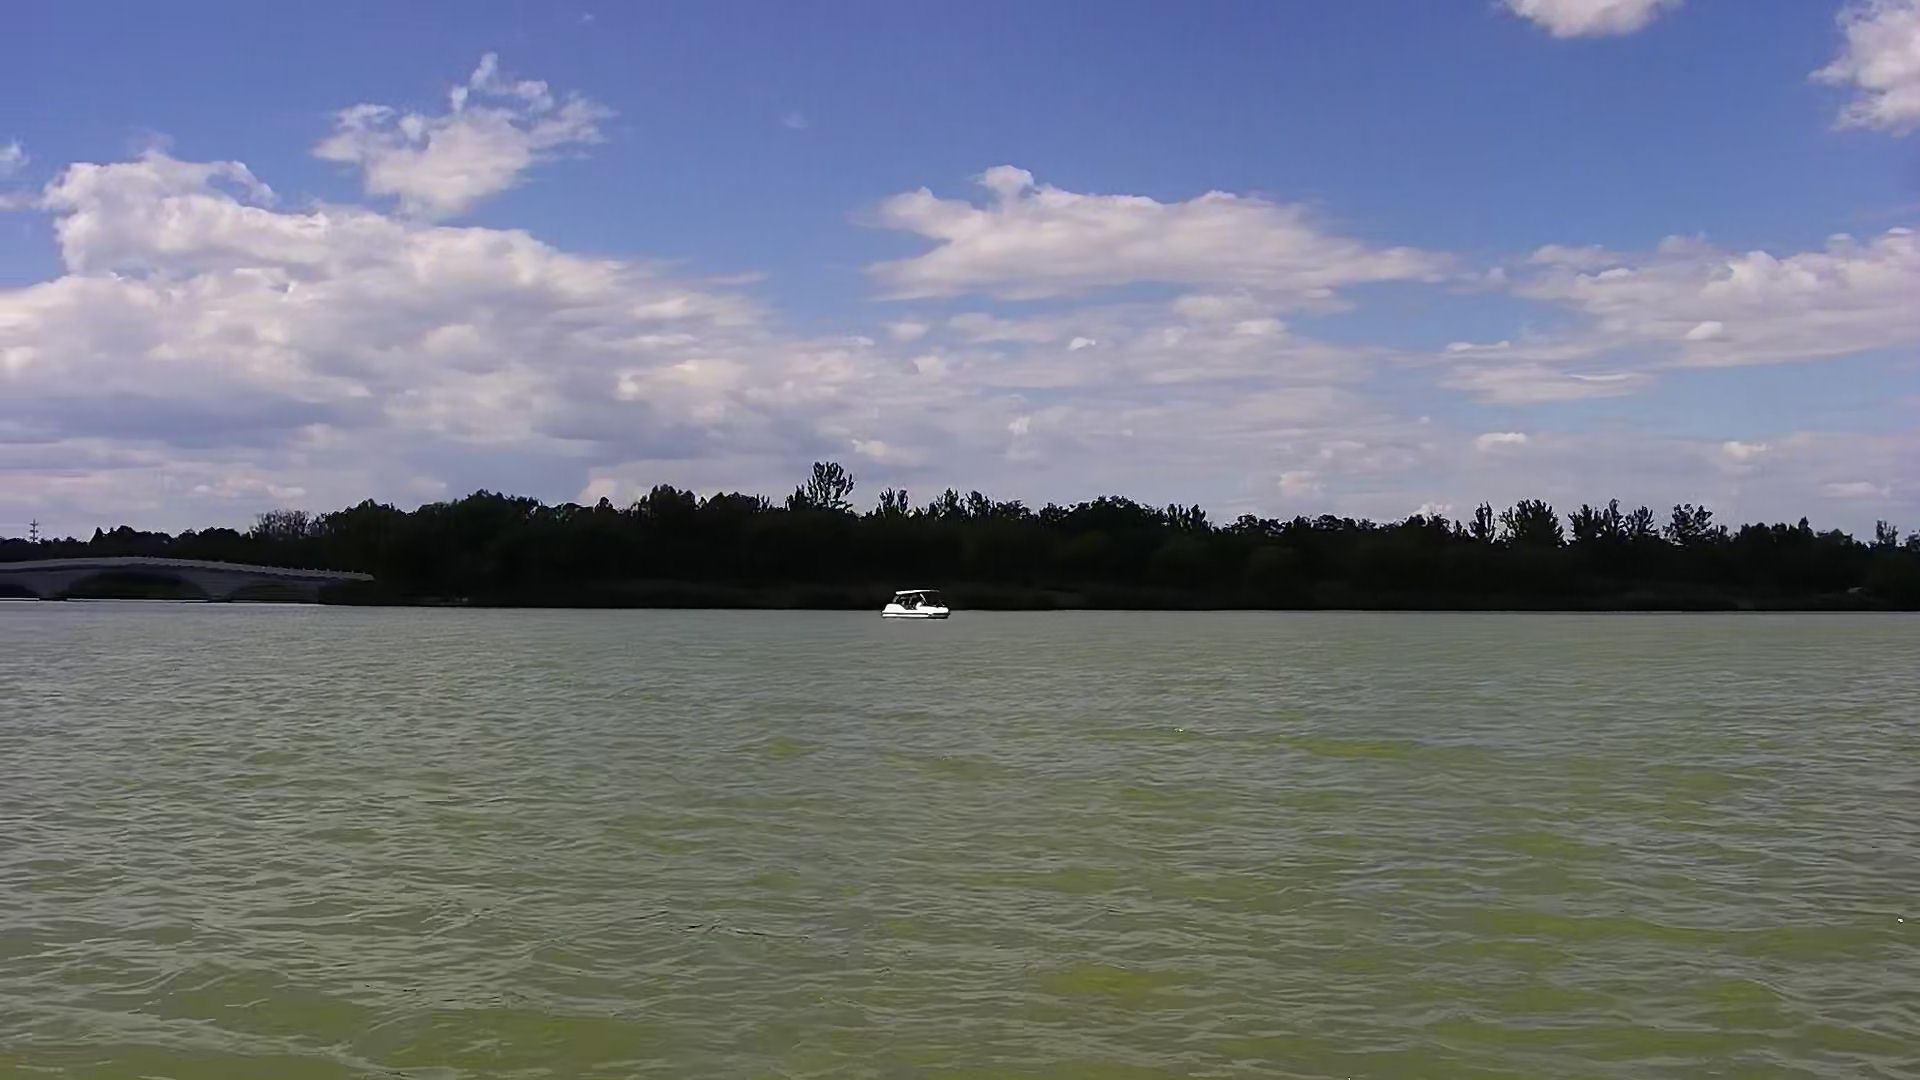boat: (877, 583, 957, 622)
bridge: (1, 551, 393, 607)
